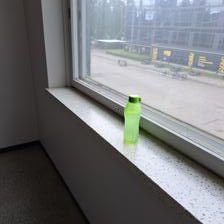bottle: (120, 93, 143, 145)
